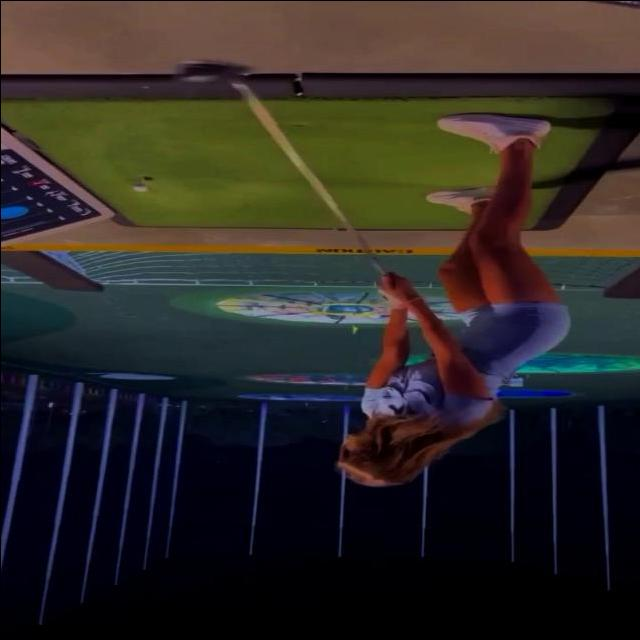golf ball: (130, 183, 146, 191)
golf club-handle: (169, 57, 410, 303)
golf club-head: (173, 61, 248, 82)
